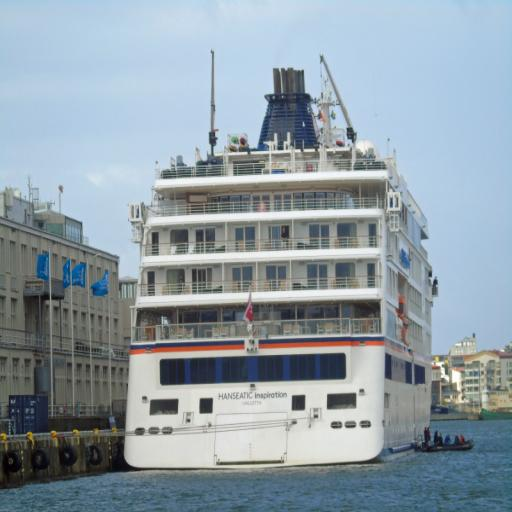cruises: (120, 53, 444, 469)
